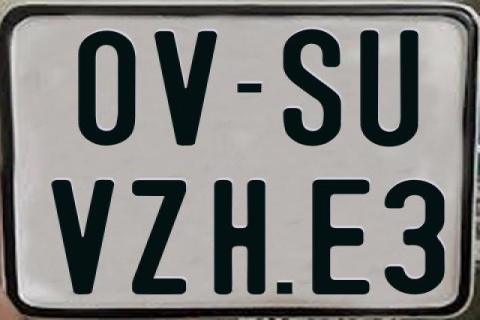0: (381, 180, 443, 299), (76, 29, 136, 149)
E: (311, 179, 375, 299)
H: (211, 178, 264, 294)
S: (284, 29, 346, 149)
U: (359, 30, 421, 148)
V: (153, 31, 222, 145), (49, 180, 114, 294)
Z: (132, 179, 186, 293)
